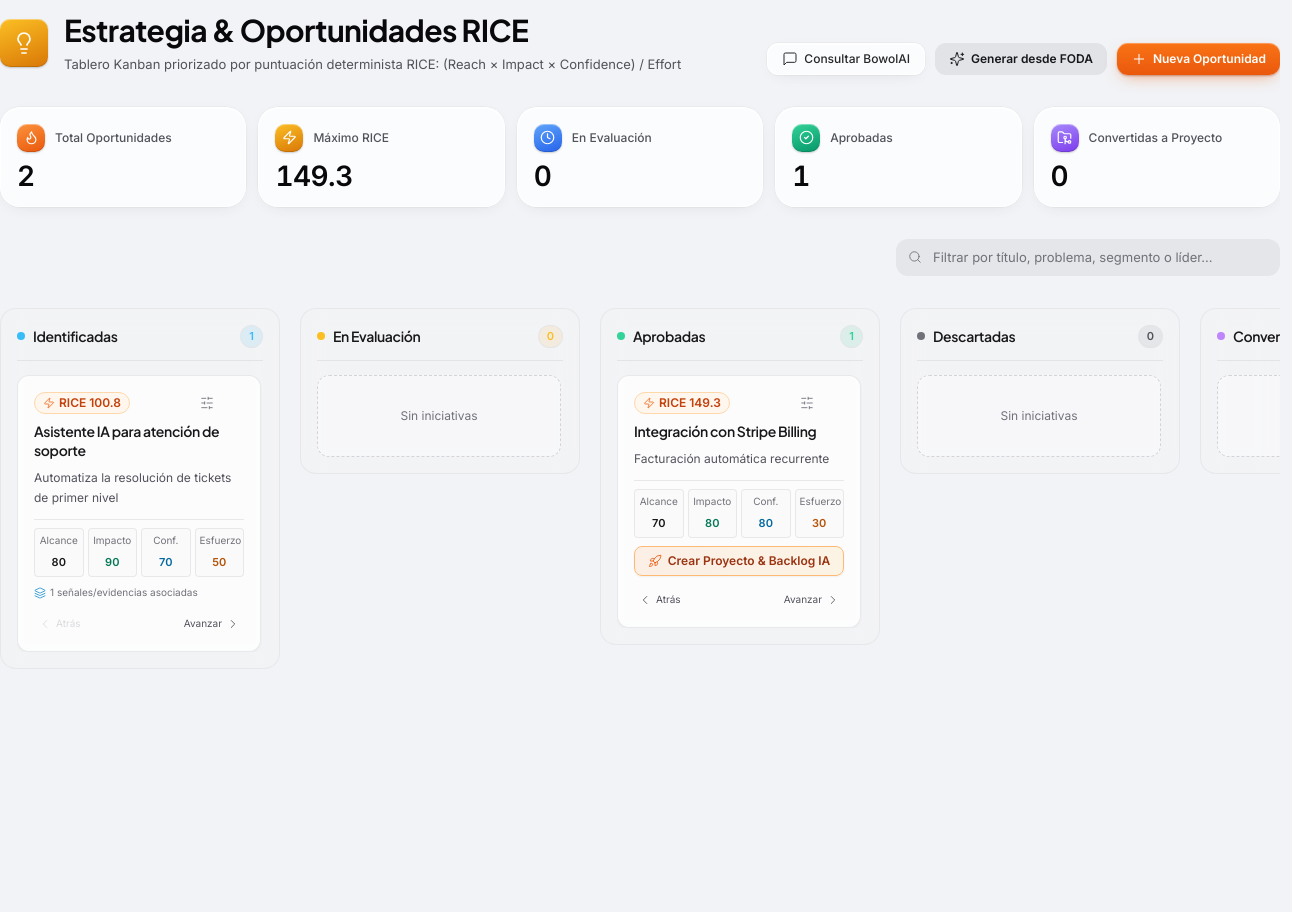
OpportunitiesPage Component › filters opportunities in board by search query
expect the heading "Asistente IA para atención de soporte" is shown: met, box x1=34 y1=422 x2=244 y2=460
expect the heading "Integración con Stripe Billing" is shown: met, box x1=634 y1=422 x2=844 y2=441
Type "Stripe" into the search field with placeholder "Filtrar por título, problema, segmento o líder..." at {"x": 1088, "y": 257}, box x1=896 y1=239 x2=1280 y2=276
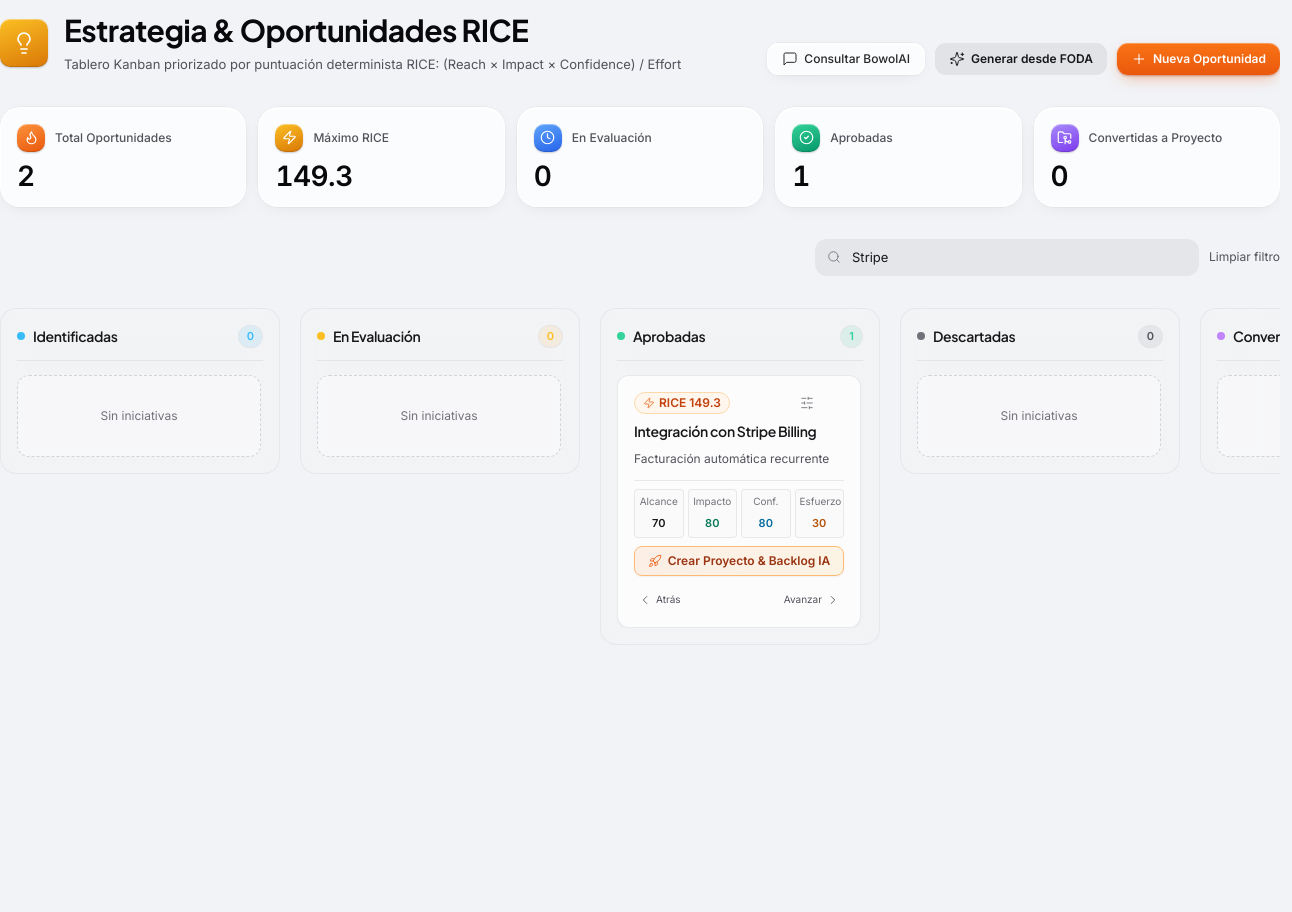
expect the heading "Integración con Stripe Billing" is shown: met, box x1=634 y1=422 x2=844 y2=441
expect the heading "Asistente IA para atención de soporte" is gone: met
